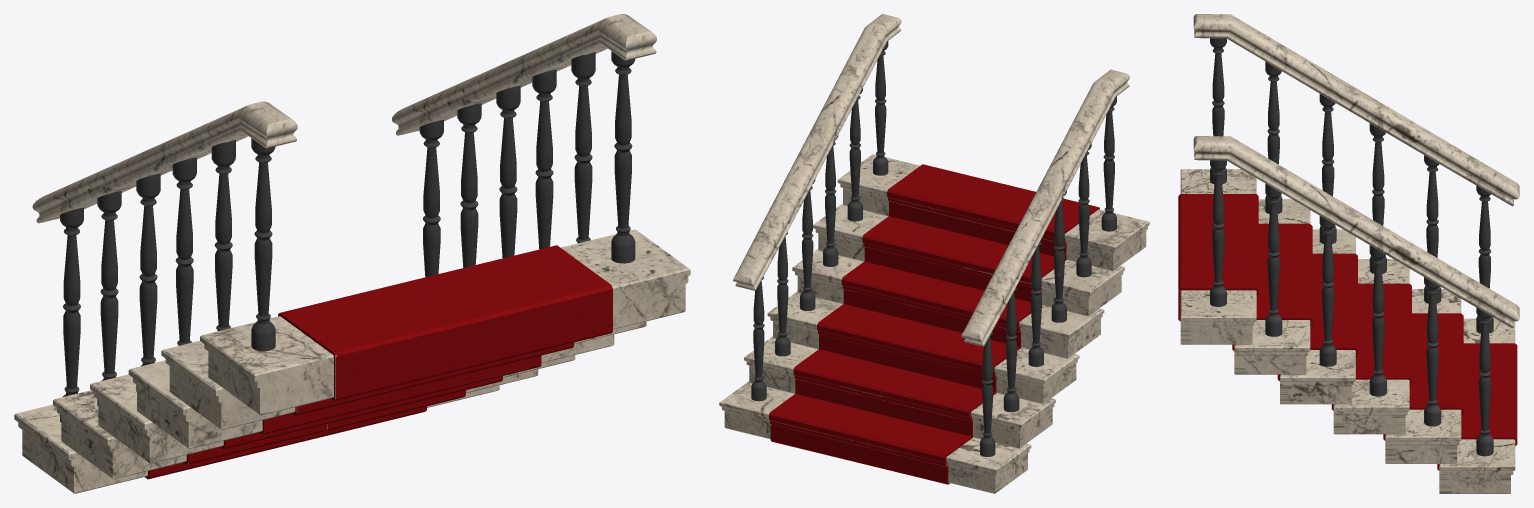
The model's file is Stairs.fbx.
3 views of the same model, side by side, from view 1: azimuth 30°, elevation 25°; view 2: azimuth 150°, elevation 25°; view 3: azimuth 270°, elevation 25° (orthographic). The views are drawn at different scales.
Parts seen in each view (by area): view 1: pCube7, pCube8, pCube9, pCylinder21, pCylinder22, pCylinder15, pCylinder20, pCylinder19, pCylinder13, pCylinder17, pCylinder12, pCylinder18 (+3 smaller); view 2: pCube7, pCube9, pCube8, pCylinder21, pCylinder22, pCylinder19, pCylinder20, pCylinder15, pCylinder17, pCylinder11, pCylinder16, pCylinder12 (+3 smaller); view 3: pCube7, pCube8, pCube9, pCylinder20, pCylinder16, pCylinder22, pCylinder18, pCylinder14, pCylinder11, pCylinder21, pCylinder19, pCylinder15 (+3 smaller).
Boxes of the visible parts, x1,y1,x2,y2 form: pCube7: (14, 229, 690, 493); pCube8: (392, 14, 656, 135); pCube9: (32, 101, 297, 223); pCylinder21: (251, 138, 275, 351); pCylinder22: (611, 51, 635, 263); pCylinder15: (136, 173, 160, 391); pCylinder20: (571, 52, 595, 243); pCylinder19: (211, 140, 235, 331); pCylinder13: (97, 191, 121, 406); pCylinder17: (172, 157, 196, 345); pCylinder12: (60, 207, 83, 422); pCylinder18: (532, 69, 556, 249); pCube7: (719, 154, 1149, 493); pCube9: (961, 69, 1129, 346); pCube8: (733, 14, 901, 290); pCylinder21: (1101, 96, 1116, 231); pCylinder22: (873, 41, 888, 175); pCylinder19: (1076, 143, 1091, 277); pCylinder20: (847, 88, 862, 221); pCylinder15: (1028, 234, 1043, 366); pCylinder17: (1051, 190, 1066, 322); pCylinder11: (751, 277, 766, 401); pCylinder16: (800, 179, 815, 310); pCylinder12: (980, 326, 995, 456); pCube7: (1178, 169, 1517, 493); pCube8: (1193, 136, 1519, 328); pCube9: (1193, 14, 1519, 206); pCylinder20: (1265, 183, 1282, 336); pCylinder16: (1369, 245, 1386, 396); pCylinder22: (1210, 160, 1226, 306); pCylinder18: (1319, 216, 1336, 366); pCylinder14: (1424, 277, 1441, 426); pCylinder11: (1476, 307, 1493, 456); pCylinder21: (1210, 38, 1226, 184); pCylinder19: (1265, 61, 1282, 213); pCylinder15: (1369, 123, 1386, 273).
Size of the model in its own units: 8.3 by 9.04 by 8.08.
1 material, 1 textured.
